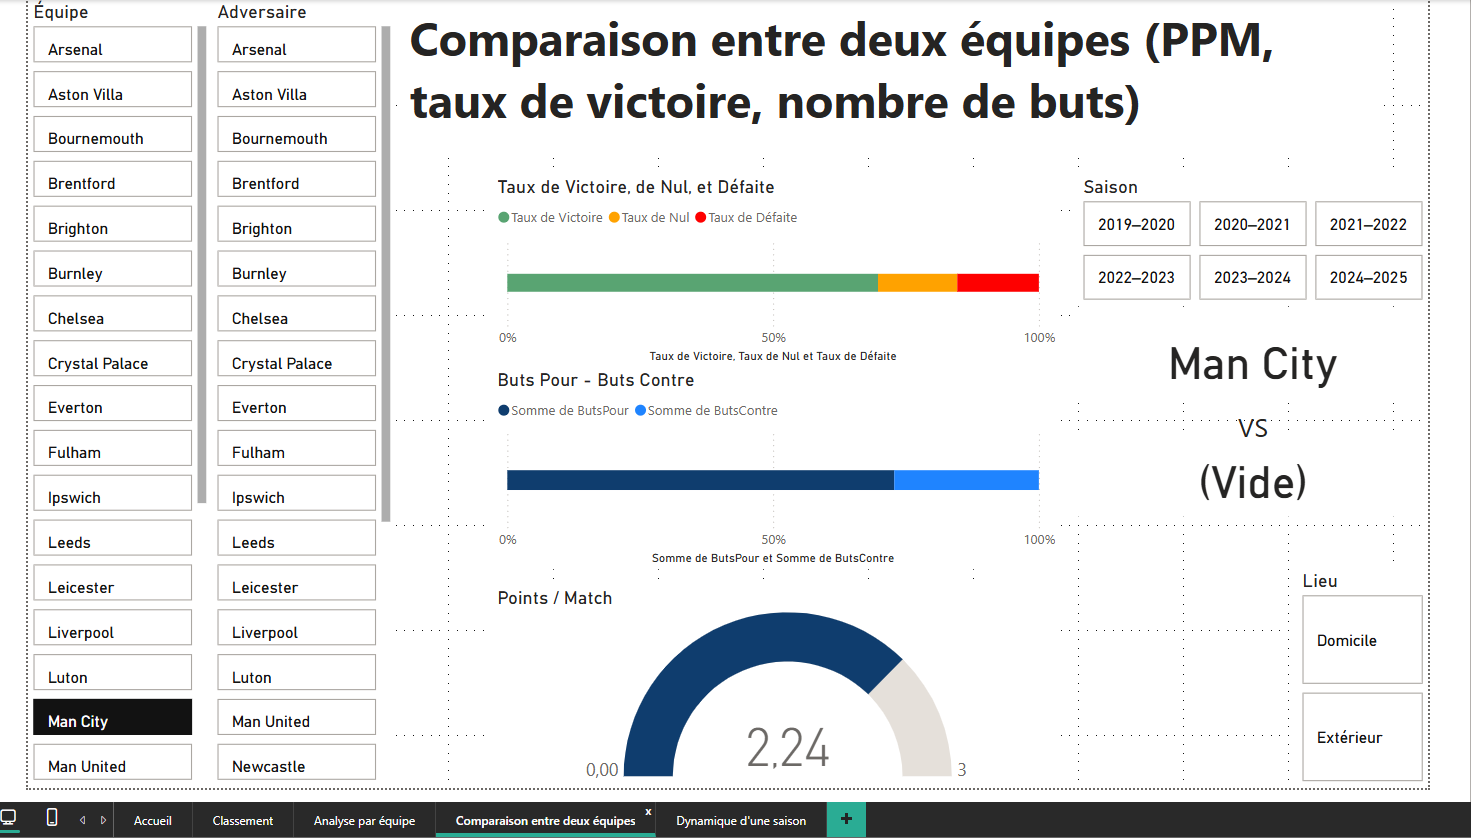

This screenshot's page, from the dashboard's own definition file:
{"tool":"powerbi","page":{"name":"Comparaison entre deux équipes","canvas":[1280,720],"ordinal":3},"visuals":[{"type":"advancedSlicerVisual","fields":{"Values":["PL23 (2).Équipe"]},"box":[0,0,168,720],"z":0},{"type":"advancedSlicerVisual","fields":{"Values":["PL23 (2).Adversaire"]},"box":[168,0,168,720],"z":1000},{"type":"hundredPercentStackedBarChart","title":"Taux de Victoire, de Nul, et Défaite ","fields":{"Y":["PL23 (2).Taux de Victoire","PL23 (2).Taux de Nul","PL23 (2).Taux de Défaite"]},"box":[424,160,520,176],"z":2000},{"type":"gauge","title":"Points / Match","fields":{"Y":["PL23 (2).Points / Match"],"MaxValue":["PL23 (2).ValeurMax"]},"box":[424,536,520,184],"z":3000},{"type":"hundredPercentStackedBarChart","title":"Buts Pour - Buts Contre","fields":{"Y":["Sum(PL23 (2).ButsPour)","Sum(PL23 (2).ButsContre)"]},"box":[424,336,520,184],"z":4000},{"type":"advancedSlicerVisual","fields":{"Values":["PL23 (2).Lieu"]},"box":[1160,520,120,200],"z":5000},{"type":"advancedSlicerVisual","fields":{"Values":["PL23 (2).Saison"]},"box":[960,160,320,120],"z":6000},{"type":"textbox","box":[344,0,896,144],"z":7000},{"type":"card","fields":{"Values":["PL23 (2).ÉquipeSélectionnée"]},"box":[960,288,320,80],"z":7001},{"type":"card","fields":{"Values":["PL23 (2).AdversaireSélectionnée"]},"box":[960,400,320,72],"z":7002},{"type":"textbox","box":[960,368,320,56],"z":7003}]}

Visuals, with their boxes on the page's 1280x720 design canvas (x1, y1, x2, y2). These are canvas units, not pixel positions in the 1471x838 screenshot, which may show the page scaled, cropped or inside an application window:
advancedSlicerVisual - PL23 (2).Équipe: [0,0,168,720]
advancedSlicerVisual - PL23 (2).Adversaire: [168,0,336,720]
"Taux de Victoire, de Nul, et Défaite " hundredPercentStackedBarChart: [424,160,944,336]
"Points / Match" gauge: [424,536,944,720]
"Buts Pour - Buts Contre" hundredPercentStackedBarChart: [424,336,944,520]
advancedSlicerVisual - PL23 (2).Lieu: [1160,520,1280,720]
advancedSlicerVisual - PL23 (2).Saison: [960,160,1280,280]
textbox: [344,0,1240,144]
card - PL23 (2).ÉquipeSélectionnée: [960,288,1280,368]
card - PL23 (2).AdversaireSélectionnée: [960,400,1280,472]
textbox: [960,368,1280,424]
